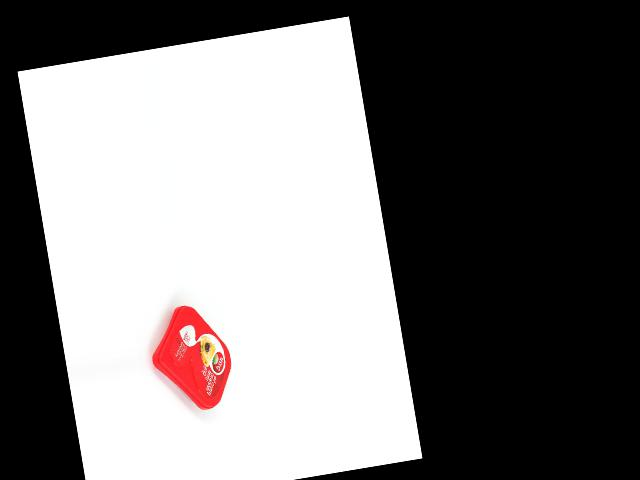cheese: (143, 298, 238, 417)
